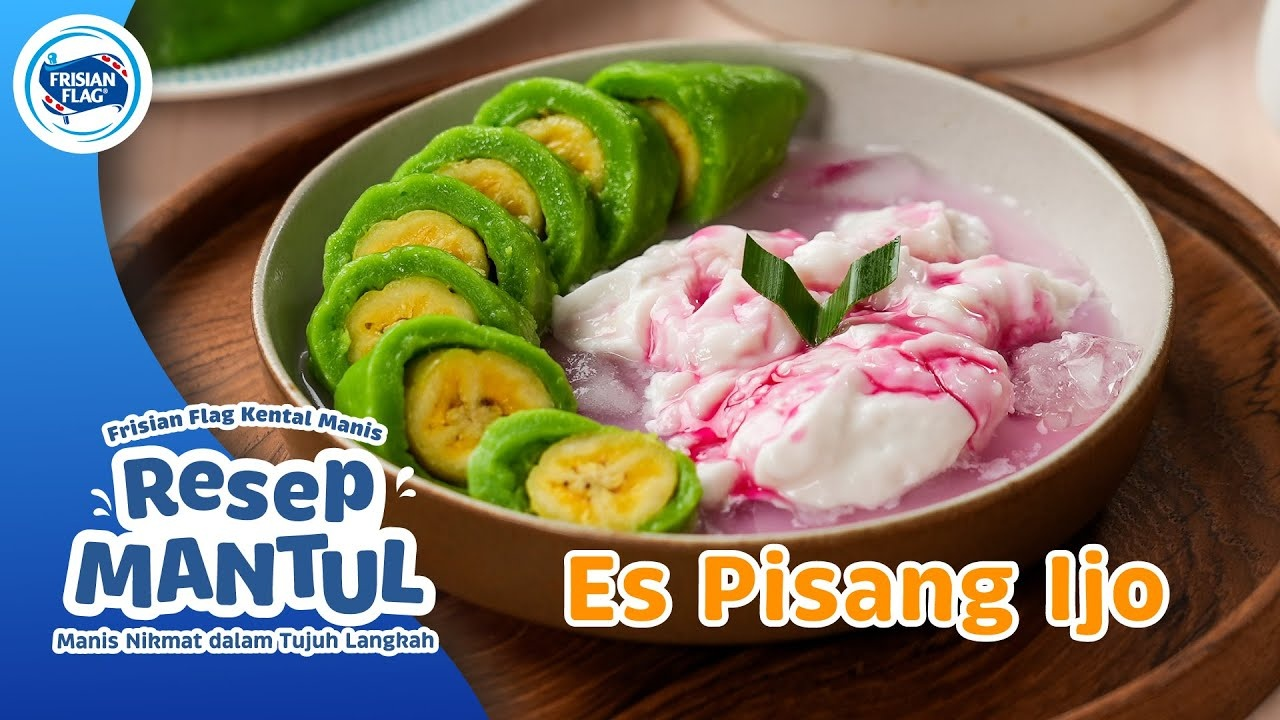es_pisang_ijo: (310, 50, 1141, 538)
